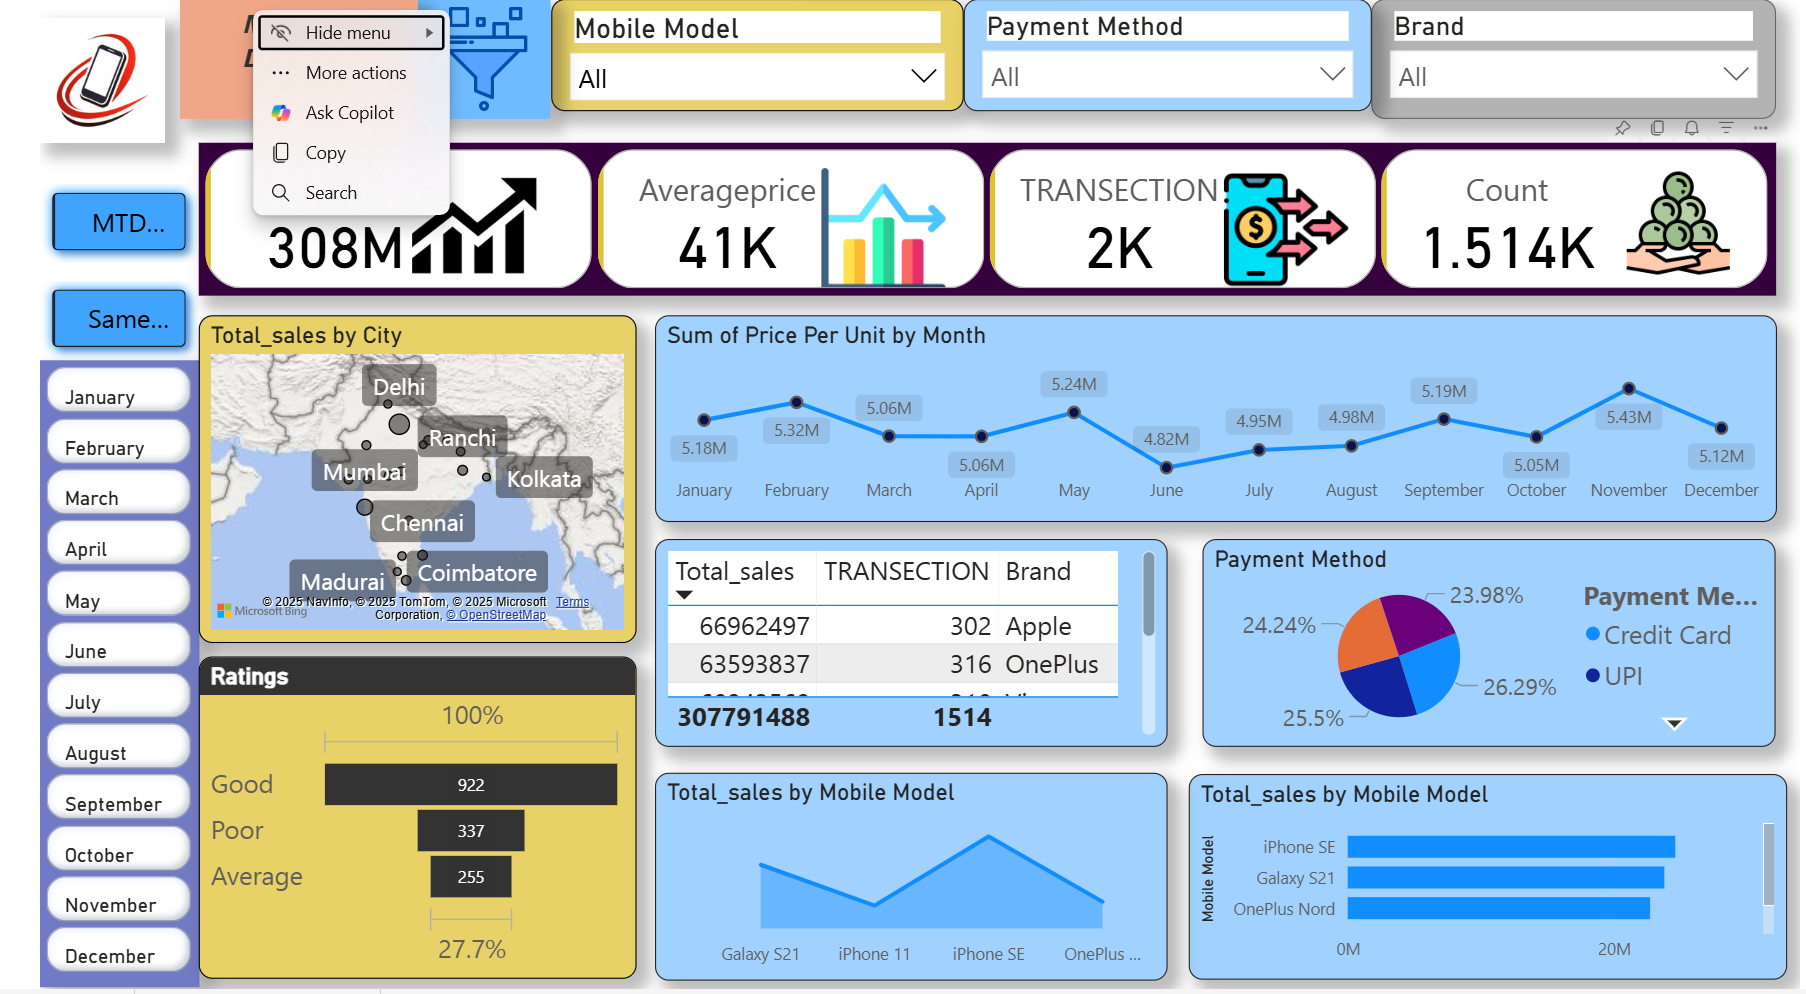

The page's visual inventory and layout, read from the dashboard file:
{"tool":"powerbi","page":{"name":"Dashboard","canvas":[1280,720],"ordinal":0},"visuals":[{"type":"image","box":[0,13.3,91.1,91.1],"z":0},{"type":"advancedSlicerVisual","fields":{"Values":["cousrom calender.Date.Variation.Date Hierarchy.Month"]},"box":[0,262.9,115.7,455.7],"z":1000},{"type":"cardVisual","fields":{"Data":["Mobile_sale_Data.Total_sales","Mobile_sale_Data.Averageprice","Mobile_sale_Data.TRANSECTION","CountNonNull(Mobile_sale_Data.Units Sold)"]},"box":[115.7,104.3,1147.1,111.4],"z":2000},{"type":"slicer","fields":{"Values":["Mobile_sale_Data.Mobile Model"]},"box":[371.4,0,300,81.4],"z":3000},{"type":"slicer","fields":{"Values":["Mobile_sale_Data.Brand"]},"box":[968.6,0,294.3,87.1],"z":4000},{"type":"slicer","fields":{"Values":["Mobile_sale_Data.Payment Method"]},"box":[671.4,0,297.1,81.4],"z":5000},{"type":"image","box":[274.3,0,97.1,87.1],"z":6000},{"type":"textbox","box":[101.4,0,172.9,87.1],"z":7000},{"type":"map","fields":{"Category":["Mobile_sale_Data.City"],"Size":["Mobile_sale_Data.Total_sales"]},"box":[115.7,230,318.6,238.6],"z":8000},{"type":"lineChart","fields":{"Category":["cousrom calender.Date.Variation.Date Hierarchy.Month","cousrom calender.Date.Variation.Date Hierarchy.Day"],"Y":["Sum(Mobile_sale_Data.Price Per Unit)"]},"box":[447.1,230,815.7,150],"z":9000},{"type":"funnel","title":"Ratings ","fields":{"Category":["Mobile_sale_Data.Rating"],"Y":["CountNonNull(Mobile_sale_Data.Customer Ratings)"]},"box":[115.7,478.6,318.6,234.3],"z":10000},{"type":"pieChart","title":" Payment Method","fields":{"Y":["Mobile_sale_Data.TRANSECTION"],"Category":["Mobile_sale_Data.Payment Method"]},"box":[845.7,392.9,417.1,151.4],"z":11000},{"type":"clusteredBarChart","fields":{"Y":["Mobile_sale_Data.Total_sales"],"Category":["Mobile_sale_Data.Mobile Model"]},"box":[835.7,564,435,149.6],"z":12000},{"type":"areaChart","fields":{"Category":["Mobile_sale_Data.Mobile Model","cousrom calender.Day Name"],"Y":["Mobile_sale_Data.Total_sales"]},"box":[447.1,562.9,372.9,151.4],"z":13000},{"type":"tableEx","fields":{"Values":["Mobile_sale_Data.Total_sales","Mobile_sale_Data.TRANSECTION","Mobile_sale_Data.Brand"]},"box":[447.1,392.9,372.9,151.4],"z":14000},{"type":"pageNavigator","box":[0,131.7,115.3,131.7],"z":15000}]}

Visuals, with their boxes on the page's 1280x720 design canvas (x1, y1, x2, y2). These are canvas units, not pixel positions in the 1806x994 screenshot, which may show the page scaled, cropped or inside an application window:
image: pyautogui.locateOnScreen(0, 13, 91, 104)
advancedSlicerVisual - cousrom calender.Date.Variation.Date Hierarchy.Month: pyautogui.locateOnScreen(0, 263, 116, 719)
cardVisual - Mobile_sale_Data.Total_sales x Mobile_sale_Data.Averageprice: pyautogui.locateOnScreen(116, 104, 1263, 216)
slicer - Mobile_sale_Data.Mobile Model: pyautogui.locateOnScreen(371, 0, 671, 81)
slicer - Mobile_sale_Data.Brand: pyautogui.locateOnScreen(969, 0, 1263, 87)
slicer - Mobile_sale_Data.Payment Method: pyautogui.locateOnScreen(671, 0, 968, 81)
image: pyautogui.locateOnScreen(274, 0, 371, 87)
textbox: pyautogui.locateOnScreen(101, 0, 274, 87)
map - Mobile_sale_Data.City x Mobile_sale_Data.Total_sales: pyautogui.locateOnScreen(116, 230, 434, 469)
lineChart - cousrom calender.Date.Variation.Date Hierarchy.Month x cousrom calender.Date.Variation.Date Hierarchy.Day: pyautogui.locateOnScreen(447, 230, 1263, 380)
"Ratings " funnel: pyautogui.locateOnScreen(116, 479, 434, 713)
" Payment Method" pieChart: pyautogui.locateOnScreen(846, 393, 1263, 544)
clusteredBarChart - Mobile_sale_Data.Total_sales x Mobile_sale_Data.Mobile Model: pyautogui.locateOnScreen(836, 564, 1271, 714)
areaChart - Mobile_sale_Data.Mobile Model x cousrom calender.Day Name: pyautogui.locateOnScreen(447, 563, 820, 714)
tableEx - Mobile_sale_Data.Total_sales x Mobile_sale_Data.TRANSECTION: pyautogui.locateOnScreen(447, 393, 820, 544)
pageNavigator: pyautogui.locateOnScreen(0, 132, 115, 263)
